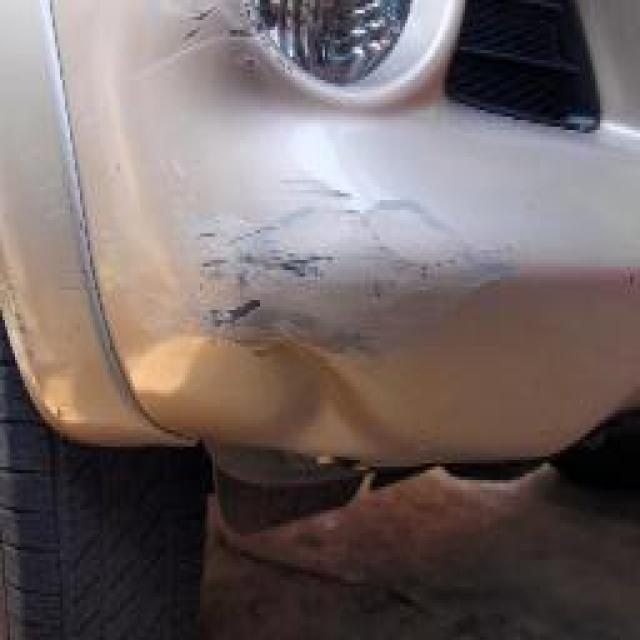Bumper: (82, 133, 630, 477)
